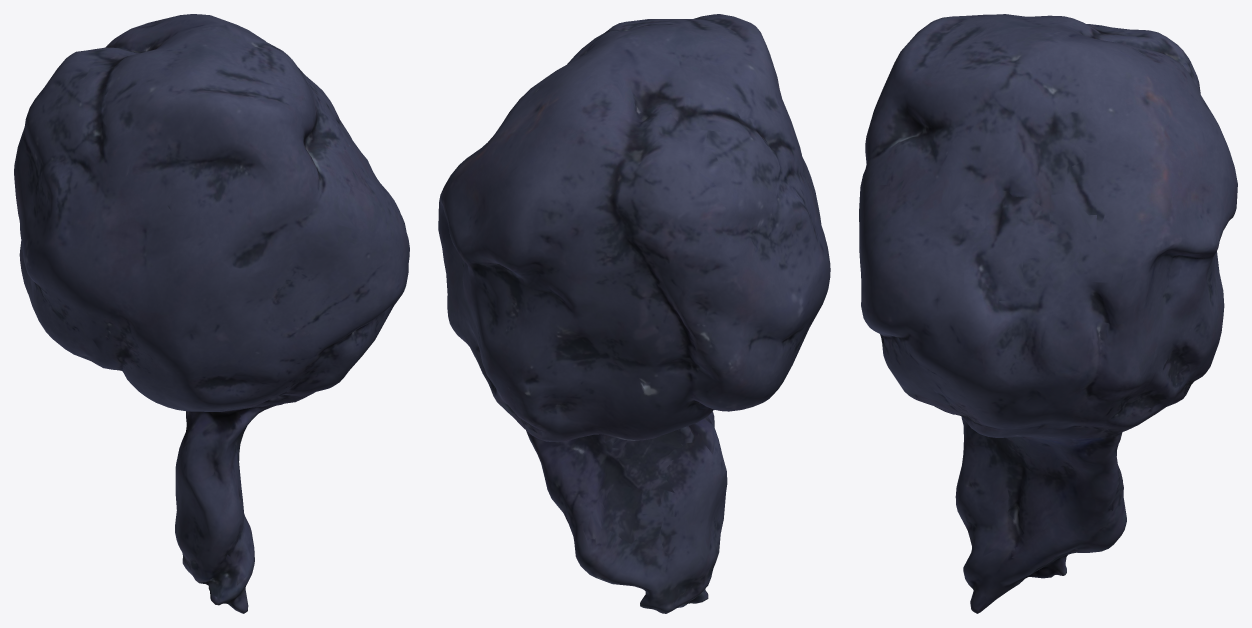
Rendered from Nicolas_Head.glb.
3 views of the same model, side by side, from view 1: azimuth 30°, elevation 25°; view 2: azimuth 150°, elevation 25°; view 3: azimuth 270°, elevation 25° (orthographic). The views are drawn at different scales.
Visible parts, largest first — view 1: Nicolas_Head; view 2: Nicolas_Head; view 3: Nicolas_Head.
Boxes of the visible parts, x1,y1,x2,y2 form: Nicolas_Head: (14,14,409,613); Nicolas_Head: (438,14,830,613); Nicolas_Head: (859,14,1237,613).
Size of the model in its own units: 0.5728 by 0.923 by 0.5444.
1 material, 1 textured.
